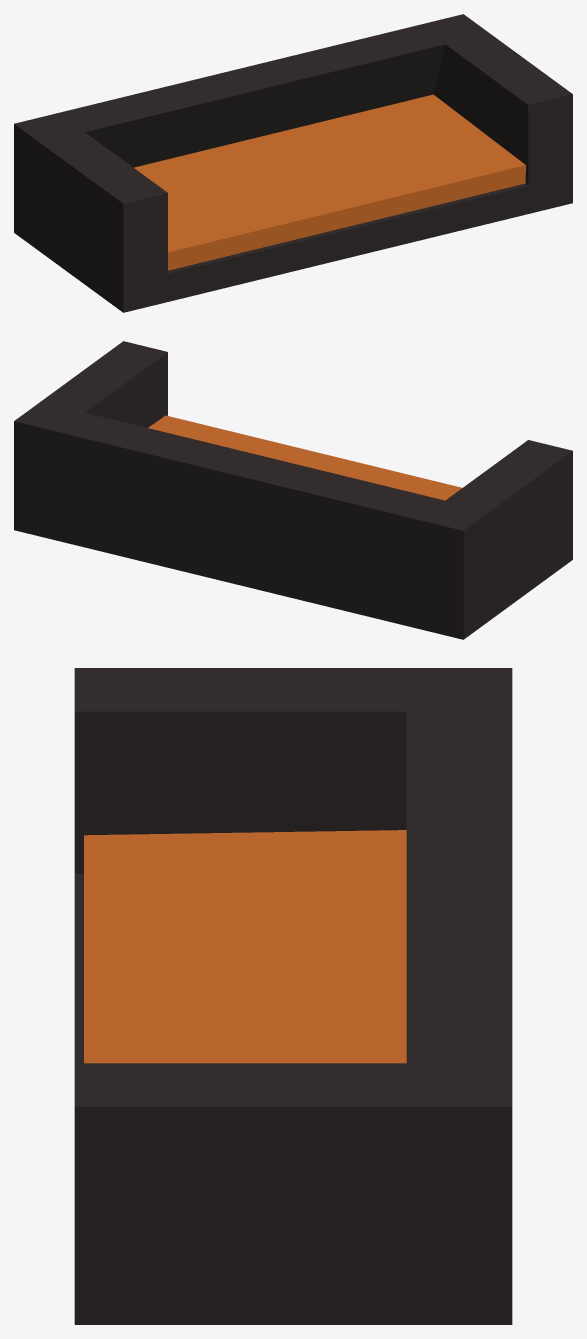
Rendered from 1dcfd88f-80da-43ef-afee-a137b568eaa4.glb.
3 renders of one model, top to bottom at view 1: azimuth 30°, elevation 25°; view 2: azimuth 150°, elevation 25°; view 3: azimuth 270°, elevation 25°, orthographic. The views are drawn at different scales.
Parts seen in each view (by area): view 1: BarCouch.023; view 2: BarCouch.023; view 3: BarCouch.023.
Boxes of the visible parts, <box> form: BarCouch.023: <box>14,14,572,312</box>; BarCouch.023: <box>14,341,572,639</box>; BarCouch.023: <box>74,668,512,1324</box>.
Size of what is drawn, in the model's own units: 4.74 by 1.1 by 2.
Materials: 1 (1 with a texture image).
